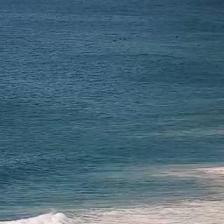surfer: (196, 43, 201, 47), (176, 35, 180, 39), (118, 37, 122, 41), (122, 37, 126, 41), (113, 40, 116, 42)
